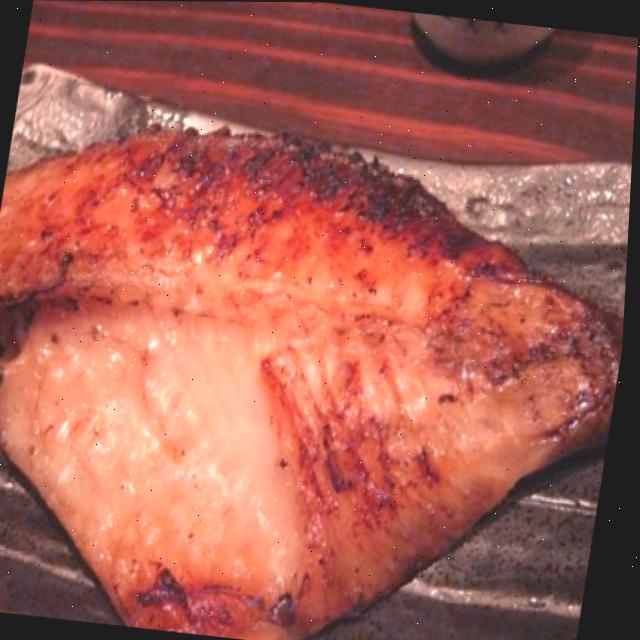熟制海鲜: (0, 91, 636, 640)
